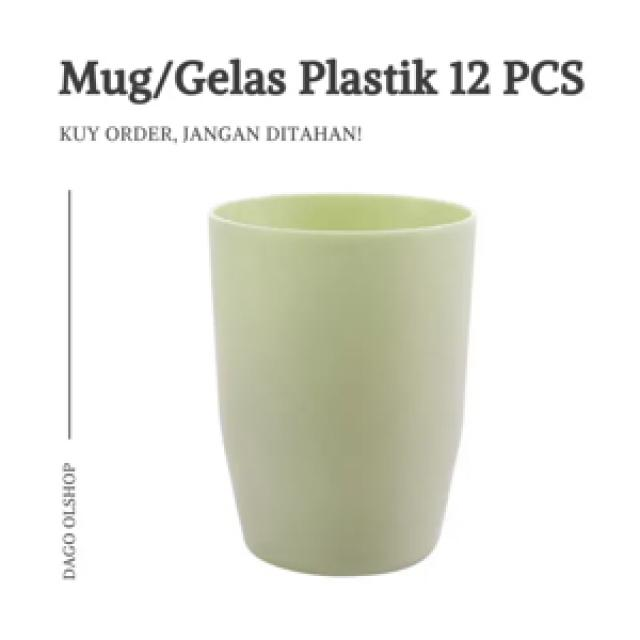plastic cup: (203, 177, 484, 587)
